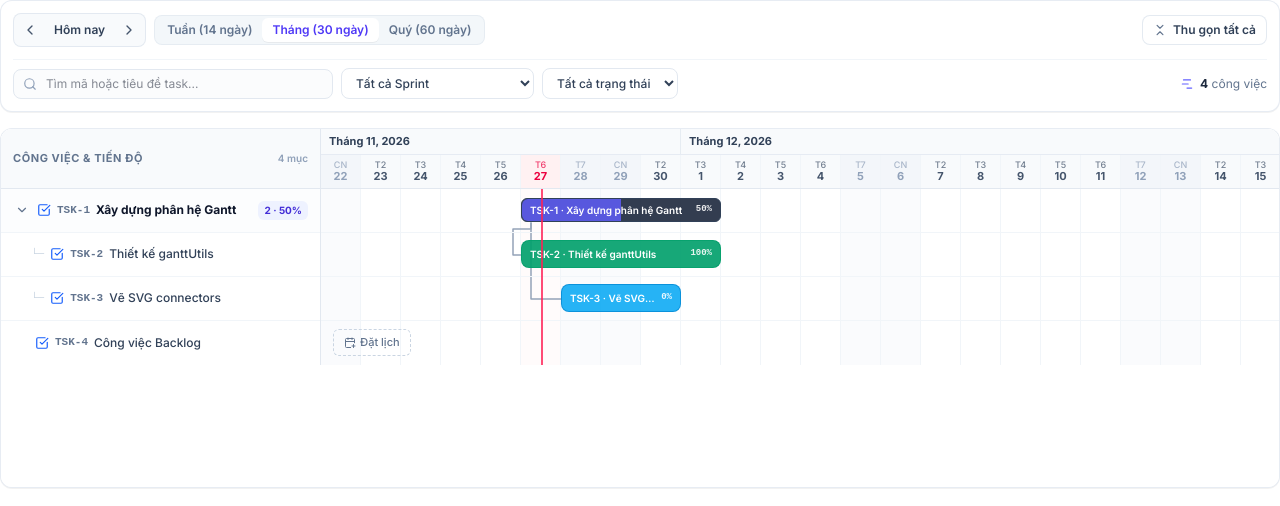
Scenario: GanttView - Component Tests › 3. Lọc theo Sprint (Backlog) và theo Trạng thái hiển thị đúng tập task
Expected: the text "Công việc Backlog" is shown, [94, 334, 201, 350]
Lọc chỉ Backlog
Select "Backlog (Chưa gán Sprint)" in the dropdown named "Lọc theo Sprint": (438, 84) [341, 68, 534, 99]
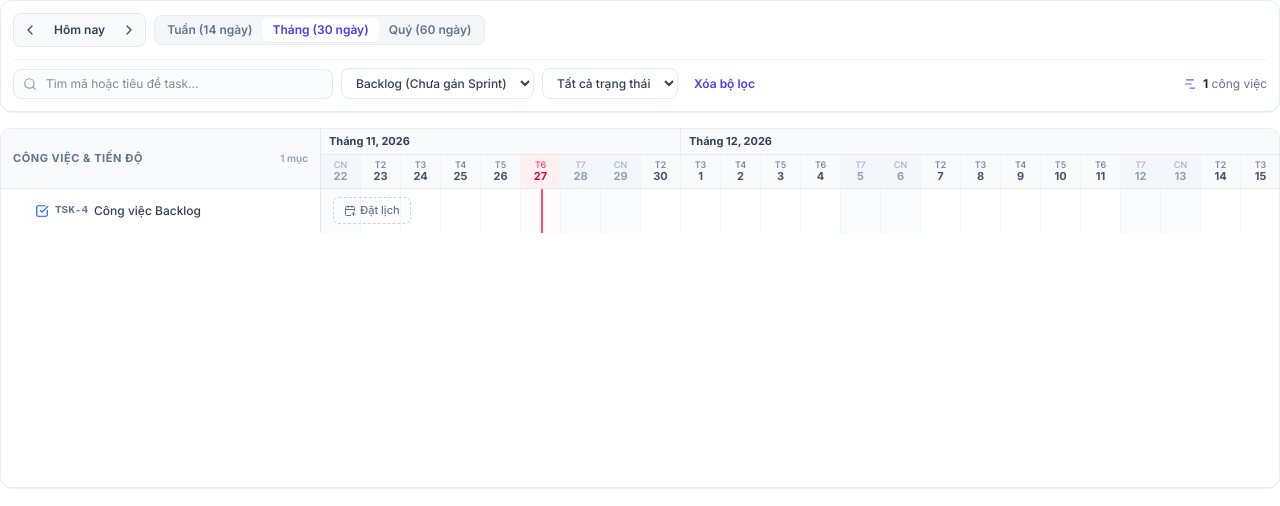
Expected: the text "Công việc Backlog" is shown, [94, 202, 201, 218]
Now the text "Xây dựng phân hệ Gantt" is gone
Quay về Tất cả Sprint rồi lọc theo trạng thái Done
Select "Tất cả Sprint" in the dropdown named "Lọc theo Sprint": (438, 84) [341, 68, 534, 99]
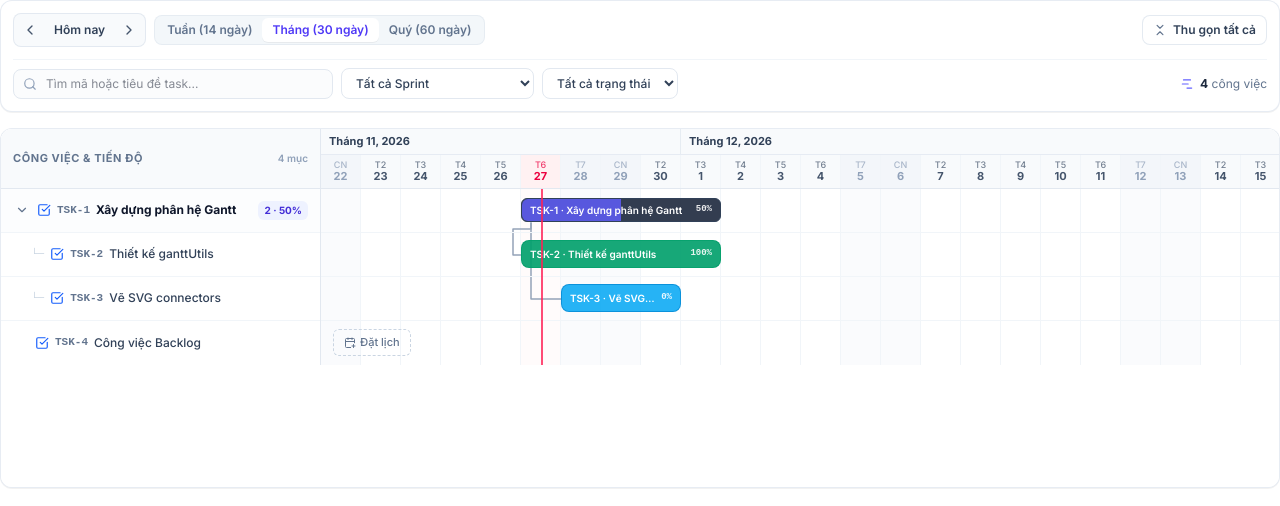
Select "Done" in the dropdown named "Lọc theo trạng thái": (610, 84) [542, 68, 678, 99]
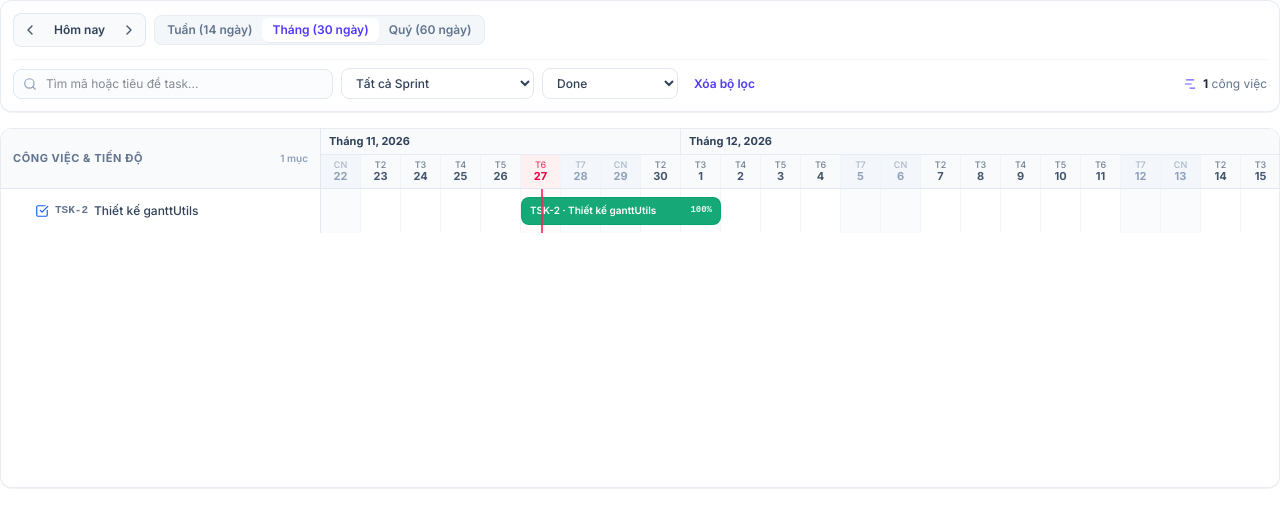
Now the text "Thiết kế ganttUtils" is shown, box [94, 202, 198, 218]
Now the text "Công việc Backlog" is gone
